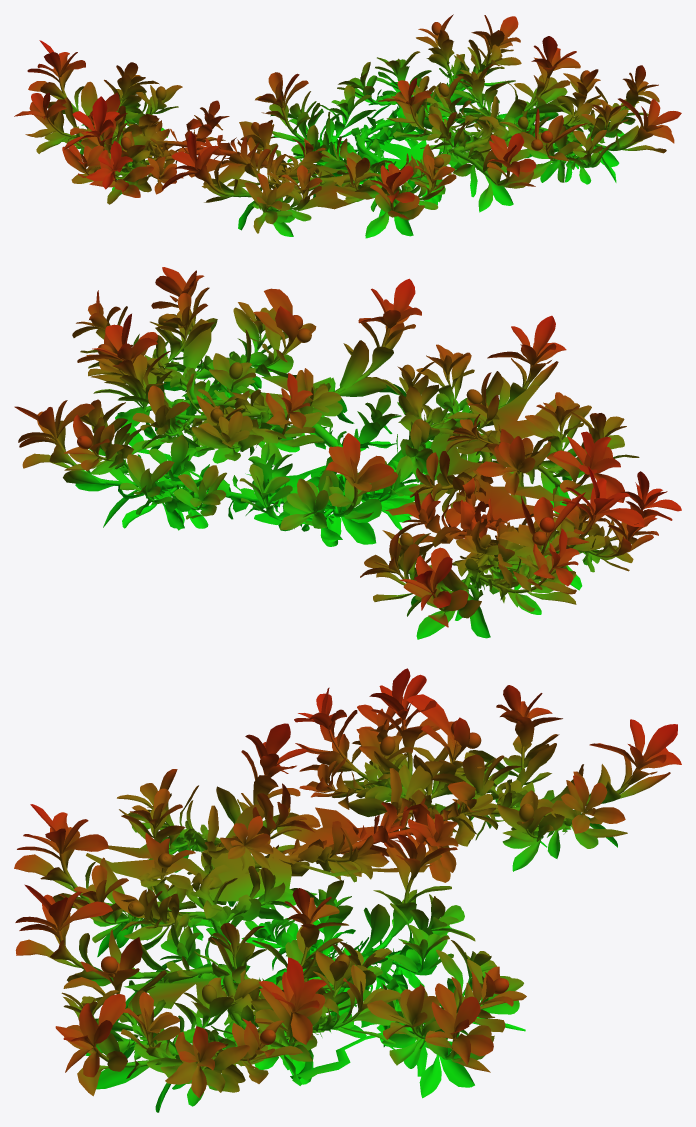
Rendered from Alpine Bearberry_LOD0_Var13_xb0gdazqx.fbx.
The picture shows the model from 3 angles, top to bottom: view 1: azimuth 30°, elevation 25°; view 2: azimuth 150°, elevation 25°; view 3: azimuth 270°, elevation 25°; orthographic projection. The views are drawn at different scales.
Parts seen in each view (by area): view 1: _xh3y_Var13_LOD0; view 2: _xh3y_Var13_LOD0; view 3: _xh3y_Var13_LOD0.
Boxes of the visible parts, x1,y1,x2,y2 form: _xh3y_Var13_LOD0: (14, 14, 681, 238); _xh3y_Var13_LOD0: (14, 267, 681, 639); _xh3y_Var13_LOD0: (14, 668, 681, 1112).
Bounding box in the file's own units: 64.85 × 14.69 × 50.85.
